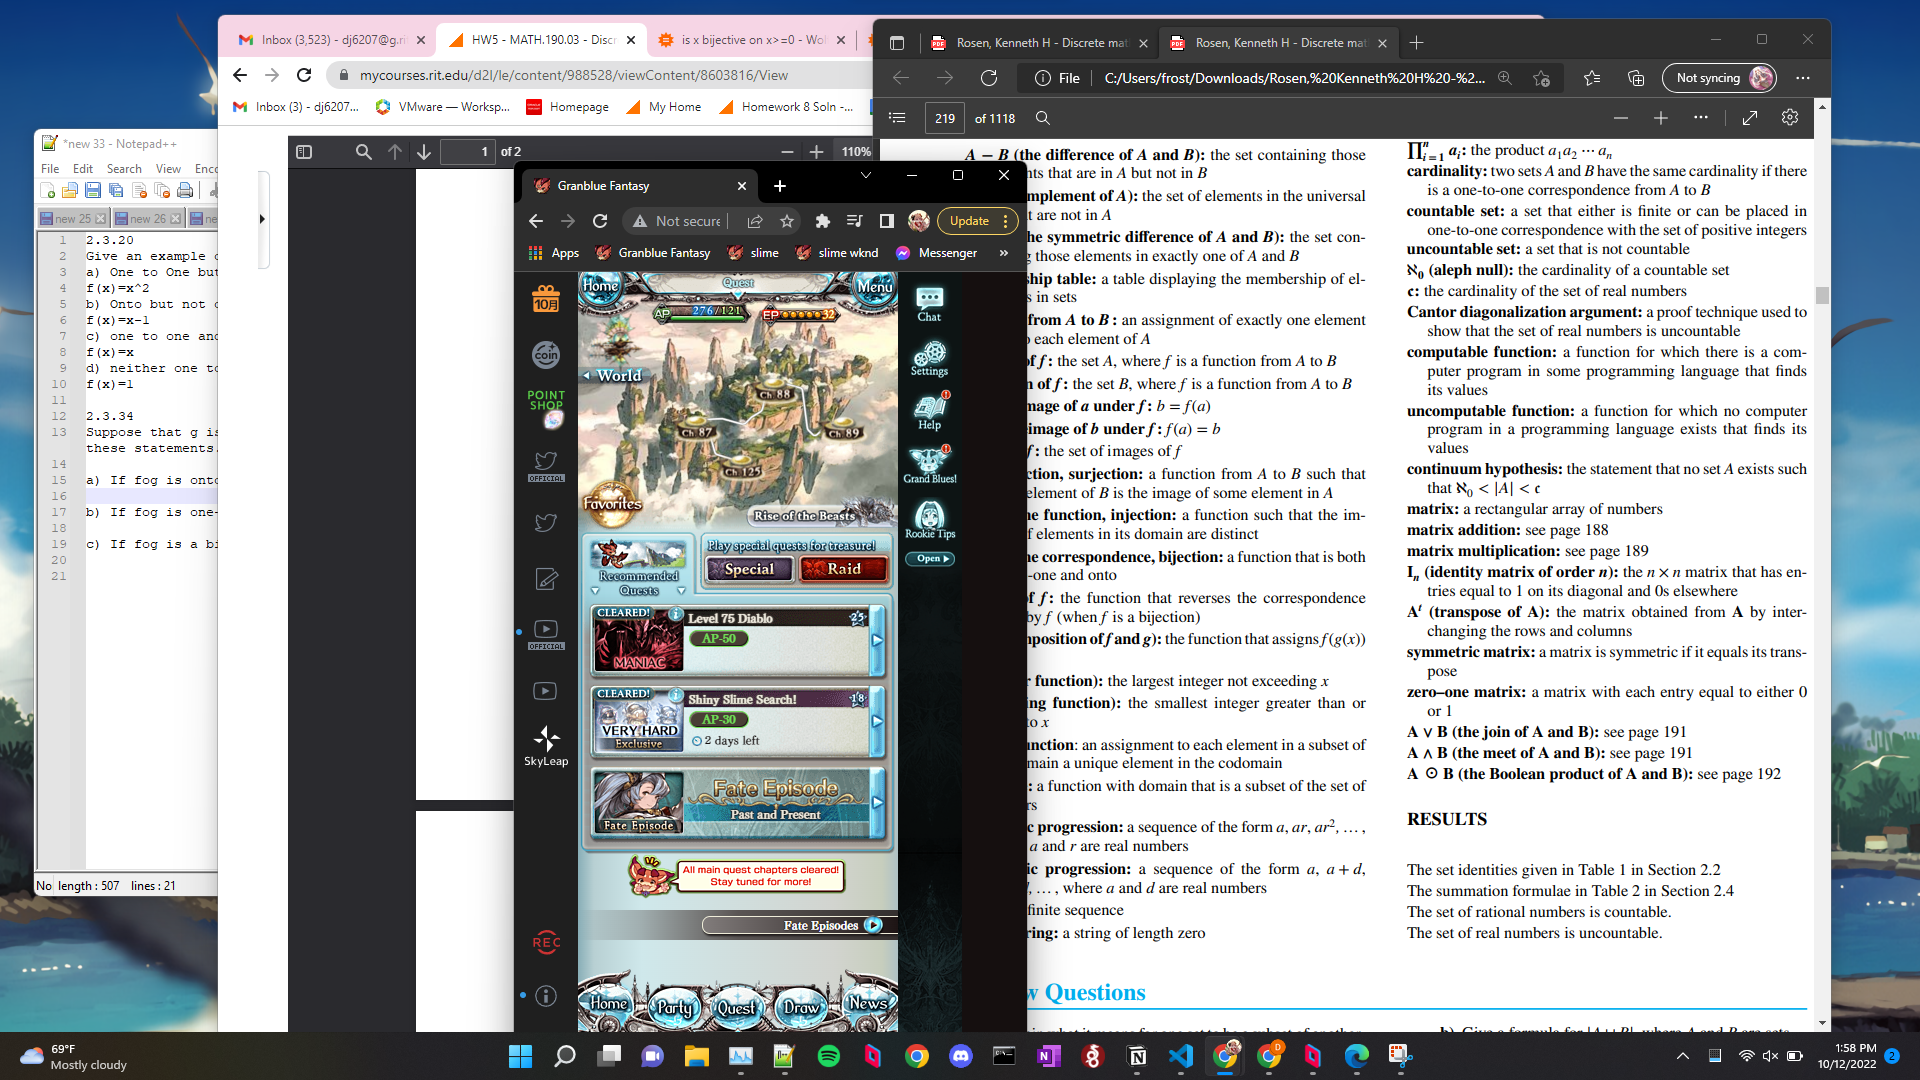Browser: (514, 160, 1026, 1027)
Home Button: (579, 980, 636, 1025), (579, 270, 630, 314)
Quest Select Screen: (579, 270, 897, 1030)
Slime Quest: (593, 688, 882, 760)
